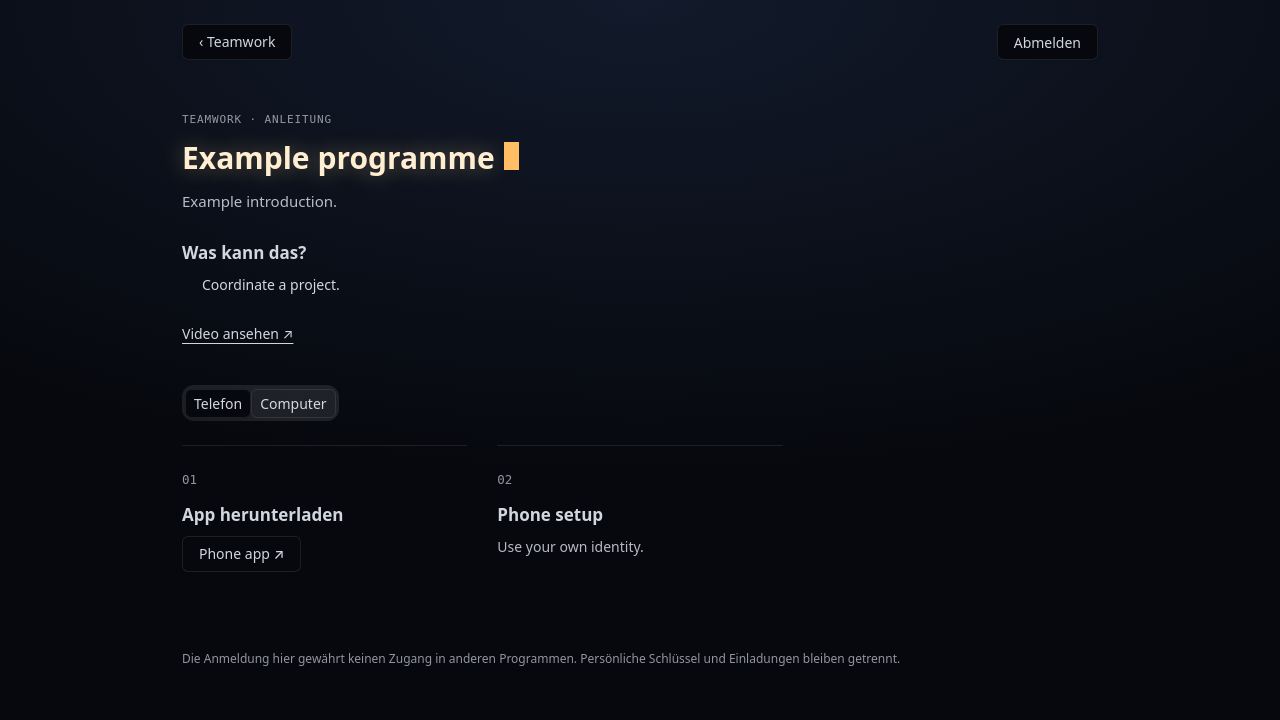
Test case: programme guide navigation › loads the guide independently of mailbox APIs and offers plain links without embeds
Press the mouse on the tab "Computer" at [293, 403], box [251,389,336,418]
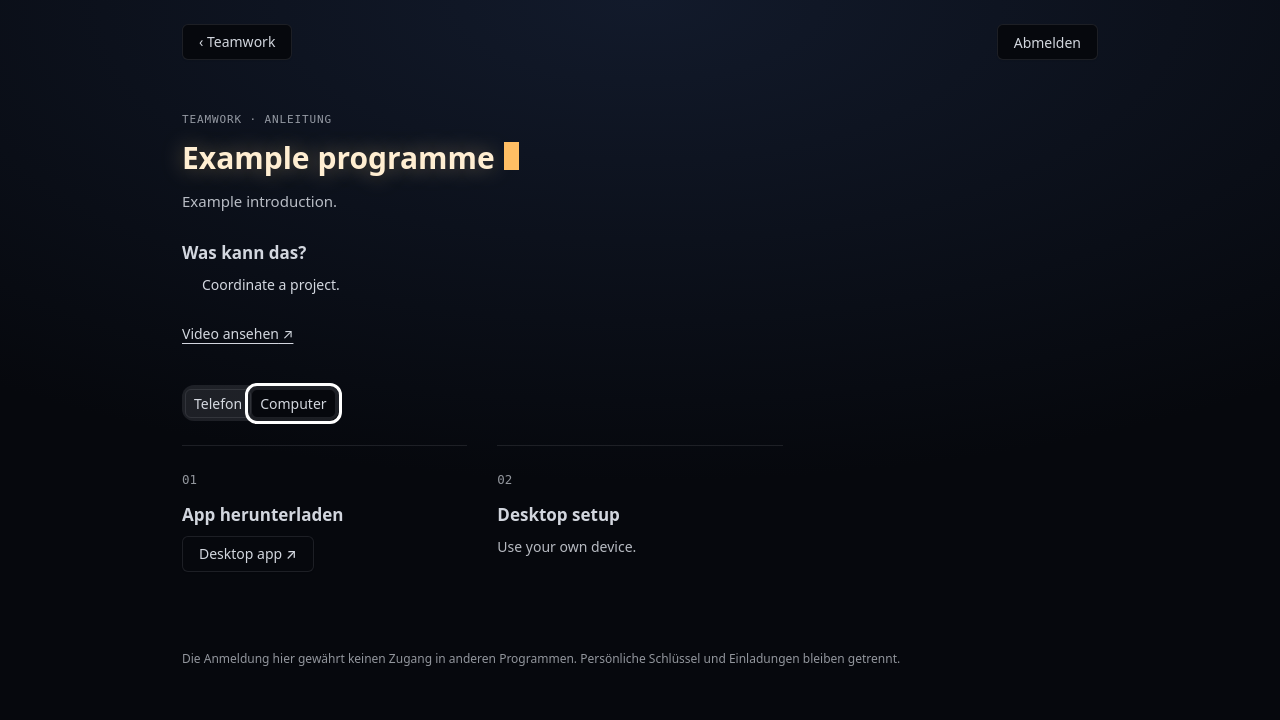
expect the text "Desktop setup" is shown: met, box [497,503,620,526]
expect the text "Phone setup" is gone: met
